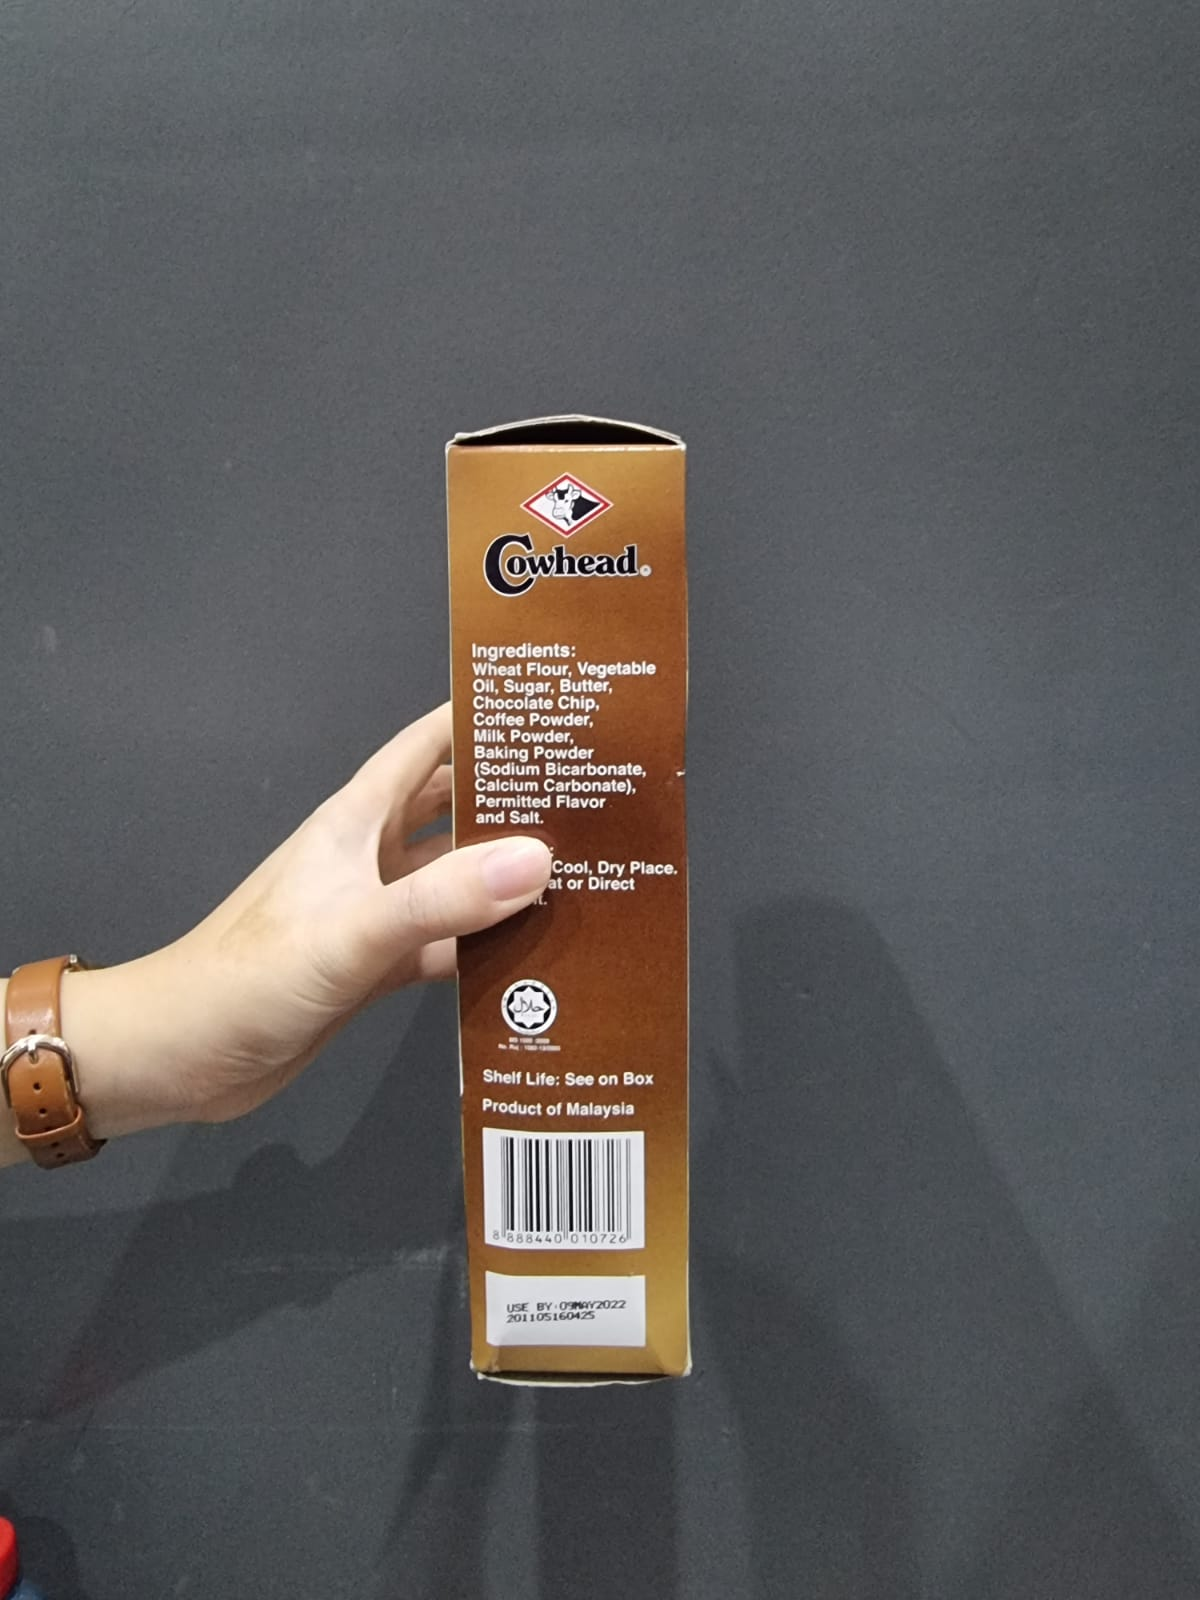Halal: (498, 980, 561, 1038)
